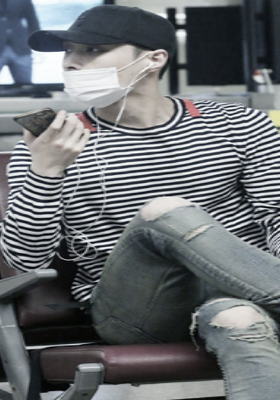mask_weared_incorrect: (60, 43, 150, 108)
